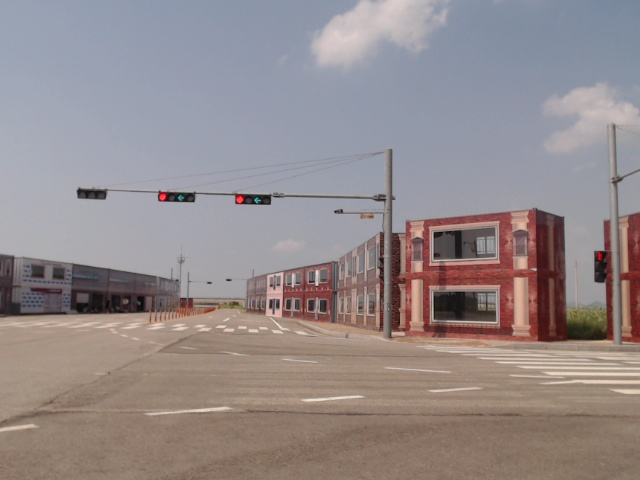left_green_4: (236, 194, 270, 205), (159, 193, 195, 202)
